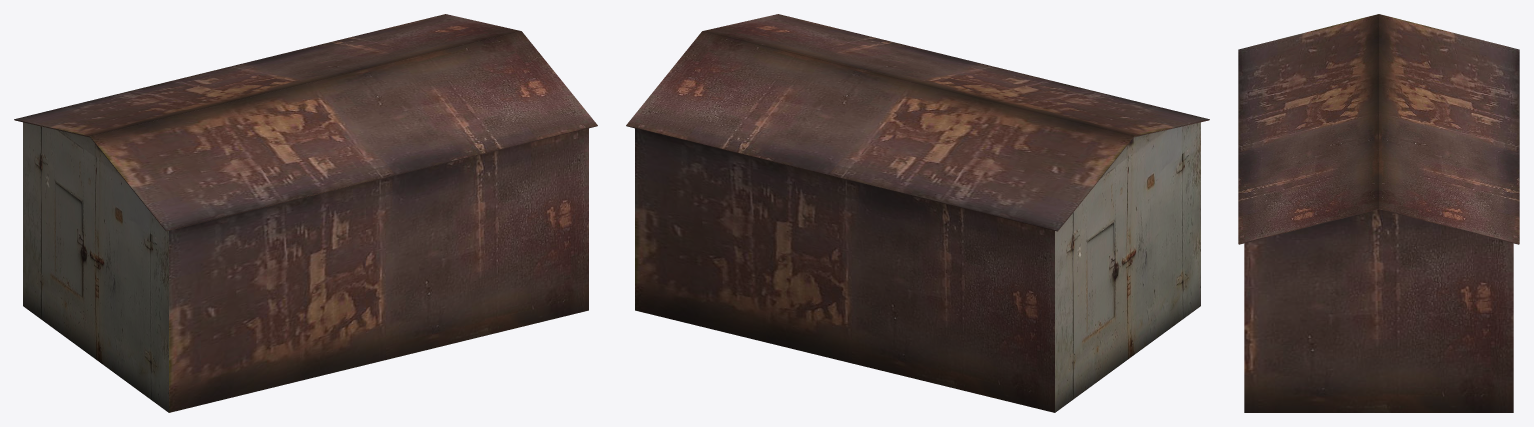
The model's file is sibir_garaz2.FBX.
3 views of the same model, side by side, from view 1: azimuth 30°, elevation 25°; view 2: azimuth 150°, elevation 25°; view 3: azimuth 270°, elevation 25° (orthographic). The views are drawn at different scales.
Parts seen in each view (by area): view 1: sibir_garaz2; view 2: sibir_garaz2; view 3: sibir_garaz2.
Part boxes in pixels (x1,y1,x2,y2): sibir_garaz2: (14,14,597,412); sibir_garaz2: (626,14,1209,412); sibir_garaz2: (1238,14,1519,412).
Size of the model in its own units: 475 by 290 by 236.
